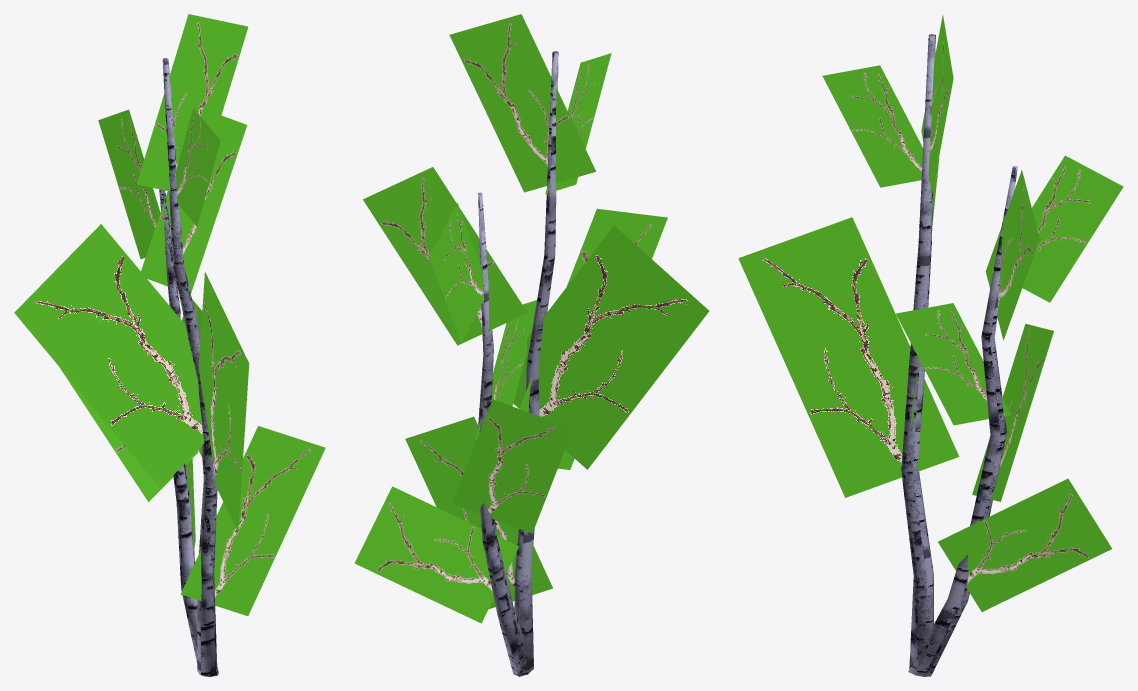
File: koivu3.glb
3 views of the same model, side by side, from view 1: azimuth 30°, elevation 25°; view 2: azimuth 150°, elevation 25°; view 3: azimuth 270°, elevation 25° (orthographic).
Visible parts, largest first — view 1: koivu3; view 2: koivu3; view 3: koivu3.
Boxes of the visible parts, x1,y1,x2,y2 form: koivu3: (14, 14, 325, 676); koivu3: (354, 14, 709, 676); koivu3: (738, 14, 1123, 676).
Size of the model in its own units: 5.35 by 10.99 by 5.85.
2 materials, 2 textured.
